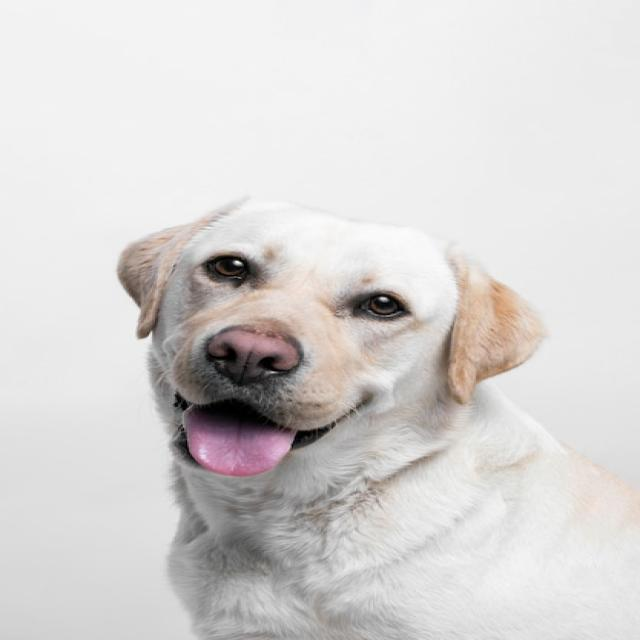Dog: (116, 195, 640, 639)
